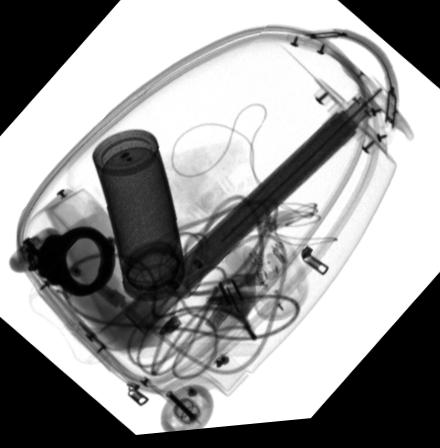HandCuffs: (24, 227, 115, 298)
